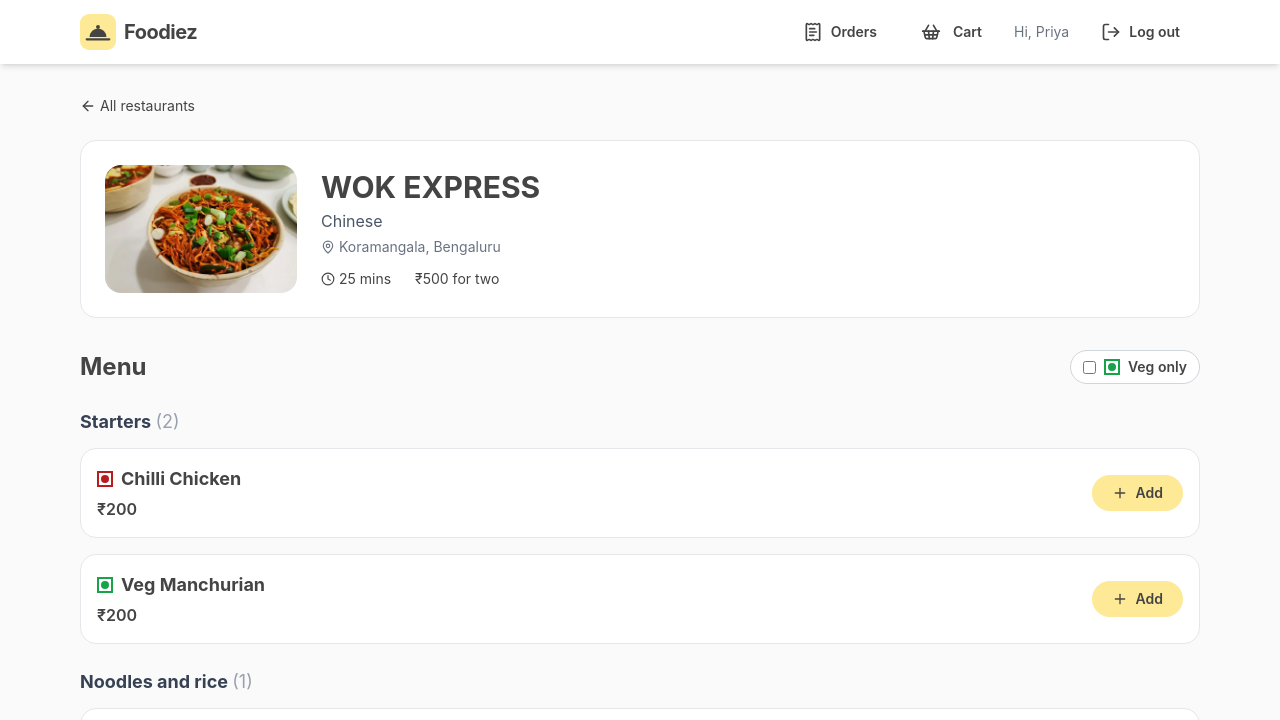
Test: a menu › can show only veg dishes
The width and height of the screenshot is (1280, 720).
Check: the heading "Chilli Chicken" is shown, box [121,465,241,493]
Click the checkbox labelled "Veg only". click: (1089, 367)
box: [1083,360,1096,374]
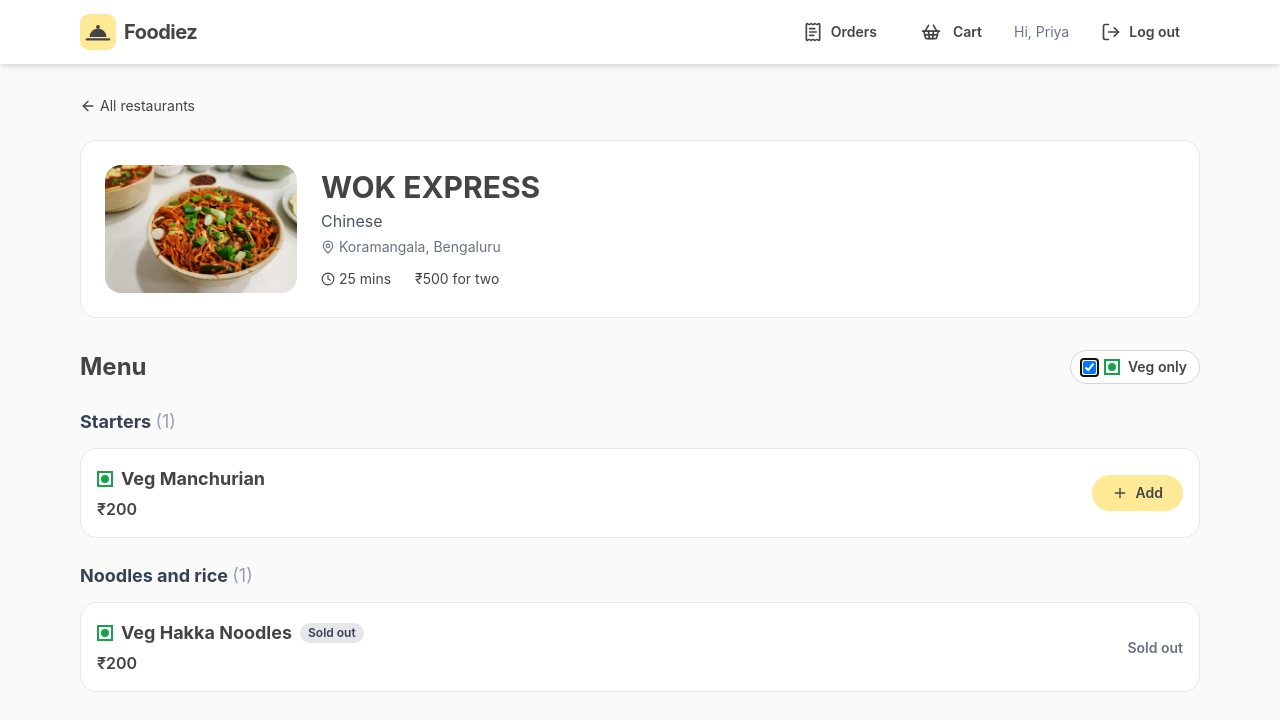
Check: the heading "Veg Manchurian" is shown, box [121,465,265,493]
Check: the heading "Chilli Chicken" is gone
